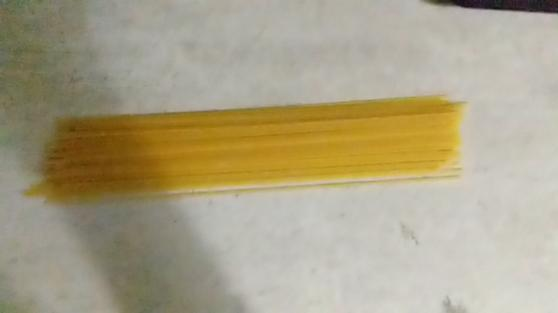spaghetti: (18, 85, 474, 212)
